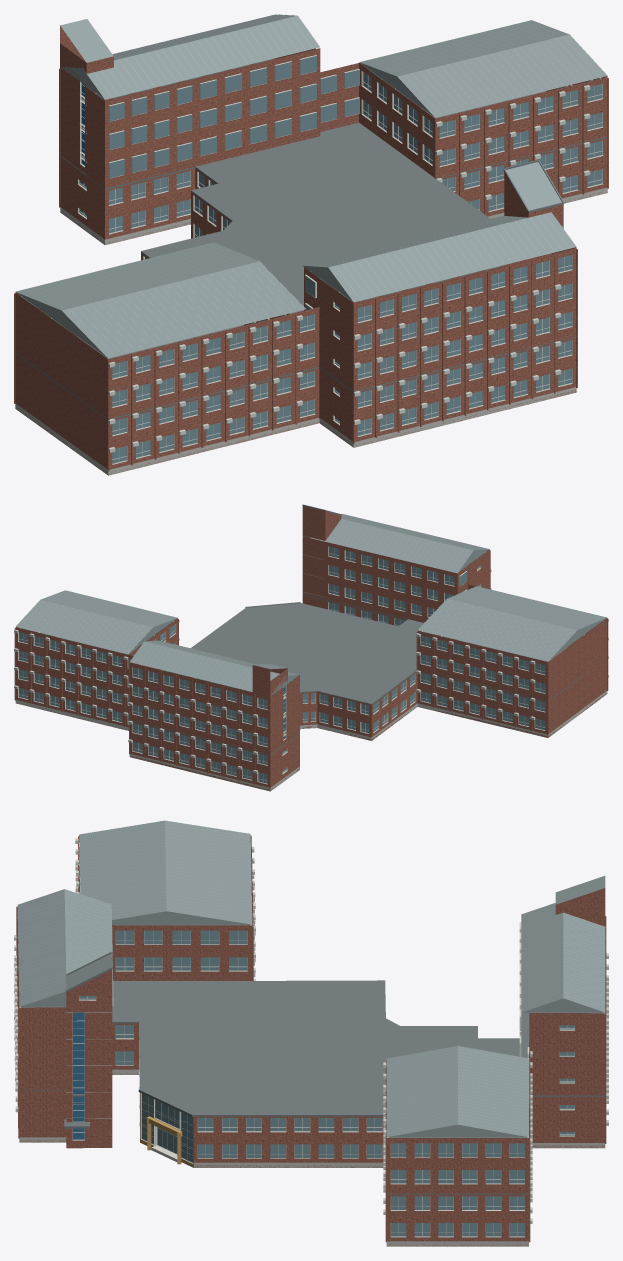
3 views of the same model, one above another, from view 1: azimuth 30°, elevation 25°; view 2: azimuth 150°, elevation 25°; view 3: azimuth 270°, elevation 25° (orthographic). The views are drawn at different scales.
Visible parts, largest first — view 1: changjo__classroomFacades (×3), changjo__lowCentralRoof, changjo__westFourStoreyRoof, changjo__eastFourStoreyRoof, changjo__southFiveStoreyRoof, changjo__windowAndDoorFrames, changjo__northFiveStoreyRoof, changjo__projectingBrickPiers, changjo__recessedOpeningReveals, changjo__wallAirConditioners, changjo__rearStairTower, changjo__originalFootprintFoundation (+7 smaller); view 2: changjo__classroomFacades (×3), changjo__lowCentralRoof, changjo__westFourStoreyRoof, changjo__windowAndDoorFrames, changjo__eastFourStoreyRoof, changjo__southFiveStoreyRoof, changjo__projectingBrickPiers, changjo__northFiveStoreyRoof, changjo__recessedOpeningReveals, changjo__wallAirConditioners (×2), changjo__acuteStairTower, changjo__rearStairTower (+2 smaller); view 3: changjo__classroomFacades (×3), changjo__lowCentralRoof, changjo__westFourStoreyRoof, changjo__eastFourStoreyRoof, changjo__southFiveStoreyRoof, changjo__northFiveStoreyRoof, changjo__acuteStairTower (×2), changjo__windowAndDoorFrames (×2), changjo__wallAirConditioners, changjo__projectingBrickPiers, changjo__recessedOpeningReveals, changjo__originalFootprintFoundation (+8 smaller).
Part boxes in pixels (x1=…): changjo__classroomFacades (×3): x1=15, y1=48, x2=607, y2=475; changjo__lowCentralRoof: x1=15, y1=91, x2=607, y2=419; changjo__westFourStoreyRoof: x1=16, y1=242, x2=305, y2=358; changjo__eastFourStoreyRoof: x1=360, y1=20, x2=607, y2=117; changjo__southFiveStoreyRoof: x1=304, y1=212, x2=576, y2=302; changjo__windowAndDoorFrames: x1=36, y1=55, x2=602, y2=464; changjo__northFiveStoreyRoof: x1=84, y1=14, x2=319, y2=99; changjo__projectingBrickPiers: x1=14, y1=58, x2=608, y2=471; changjo__recessedOpeningReveals: x1=21, y1=55, x2=603, y2=464; changjo__wallAirConditioners: x1=108, y1=85, x2=590, y2=452; changjo__rearStairTower: x1=60, y1=41, x2=113, y2=174; changjo__originalFootprintFoundation: x1=15, y1=190, x2=607, y2=475; changjo__classroomFacades (×3): x1=15, y1=542, x2=607, y2=791; changjo__lowCentralRoof: x1=44, y1=594, x2=606, y2=755; changjo__westFourStoreyRoof: x1=418, y1=586, x2=606, y2=661; changjo__windowAndDoorFrames: x1=18, y1=546, x2=544, y2=783; changjo__eastFourStoreyRoof: x1=15, y1=590, x2=177, y2=653; changjo__southFiveStoreyRoof: x1=310, y1=514, x2=489, y2=573; changjo__projectingBrickPiers: x1=14, y1=550, x2=608, y2=788; changjo__northFiveStoreyRoof: x1=130, y1=640, x2=298, y2=691; changjo__recessedOpeningReveals: x1=18, y1=546, x2=603, y2=784; changjo__wallAirConditioners (×2): x1=14, y1=569, x2=608, y2=773; changjo__acuteStairTower: x1=302, y1=515, x2=341, y2=608; changjo__rearStairTower: x1=252, y1=668, x2=287, y2=753; changjo__classroomFacades (×3): x1=17, y1=835, x2=605, y2=1246; changjo__lowCentralRoof: x1=20, y1=924, x2=604, y2=1194; changjo__westFourStoreyRoof: x1=79, y1=820, x2=252, y2=924; changjo__eastFourStoreyRoof: x1=386, y1=1046, x2=529, y2=1136; changjo__southFiveStoreyRoof: x1=17, y1=889, x2=113, y2=1006; changjo__northFiveStoreyRoof: x1=521, y1=903, x2=605, y2=1012; changjo__acuteStairTower (×2): x1=66, y1=991, x2=112, y2=1148; changjo__windowAndDoorFrames (×2): x1=20, y1=922, x2=574, y2=1236; changjo__wallAirConditioners: x1=14, y1=838, x2=608, y2=1223; changjo__projectingBrickPiers: x1=16, y1=835, x2=606, y2=1242; changjo__recessedOpeningReveals: x1=17, y1=842, x2=604, y2=1237; changjo__originalFootprintFoundation: x1=19, y1=1072, x2=605, y2=1246.
Size of the model in its own units: 101 by 27.91 by 83.35.
13 materials, 1 textured.
